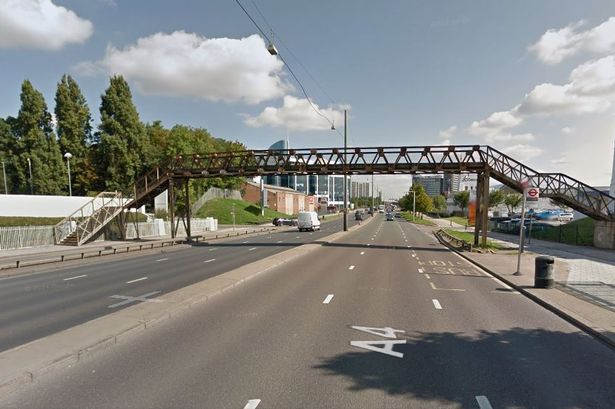bridge: (164, 143, 499, 248)
